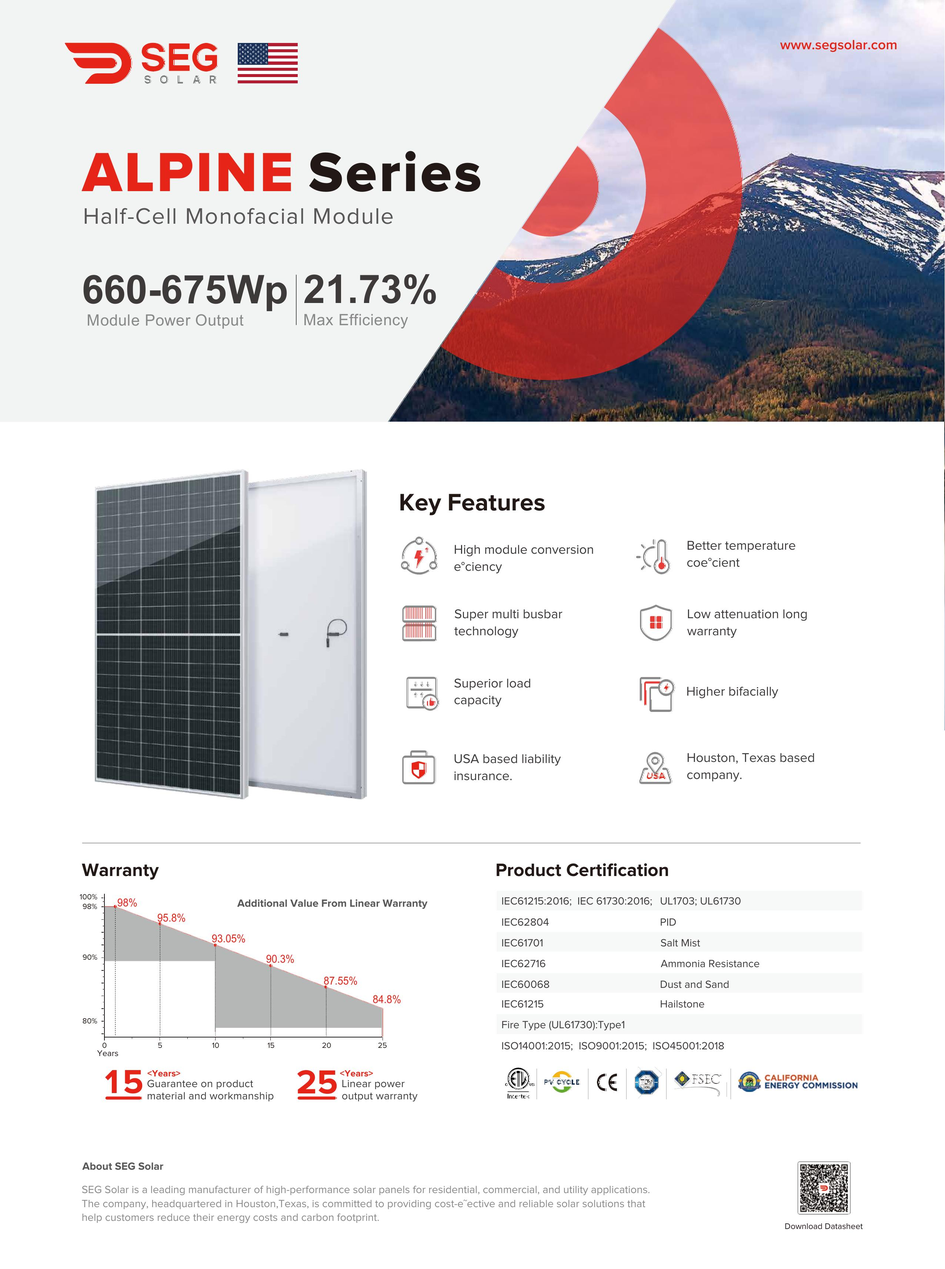no object: (69, 857, 447, 1054)
table: (487, 856, 854, 1056)
